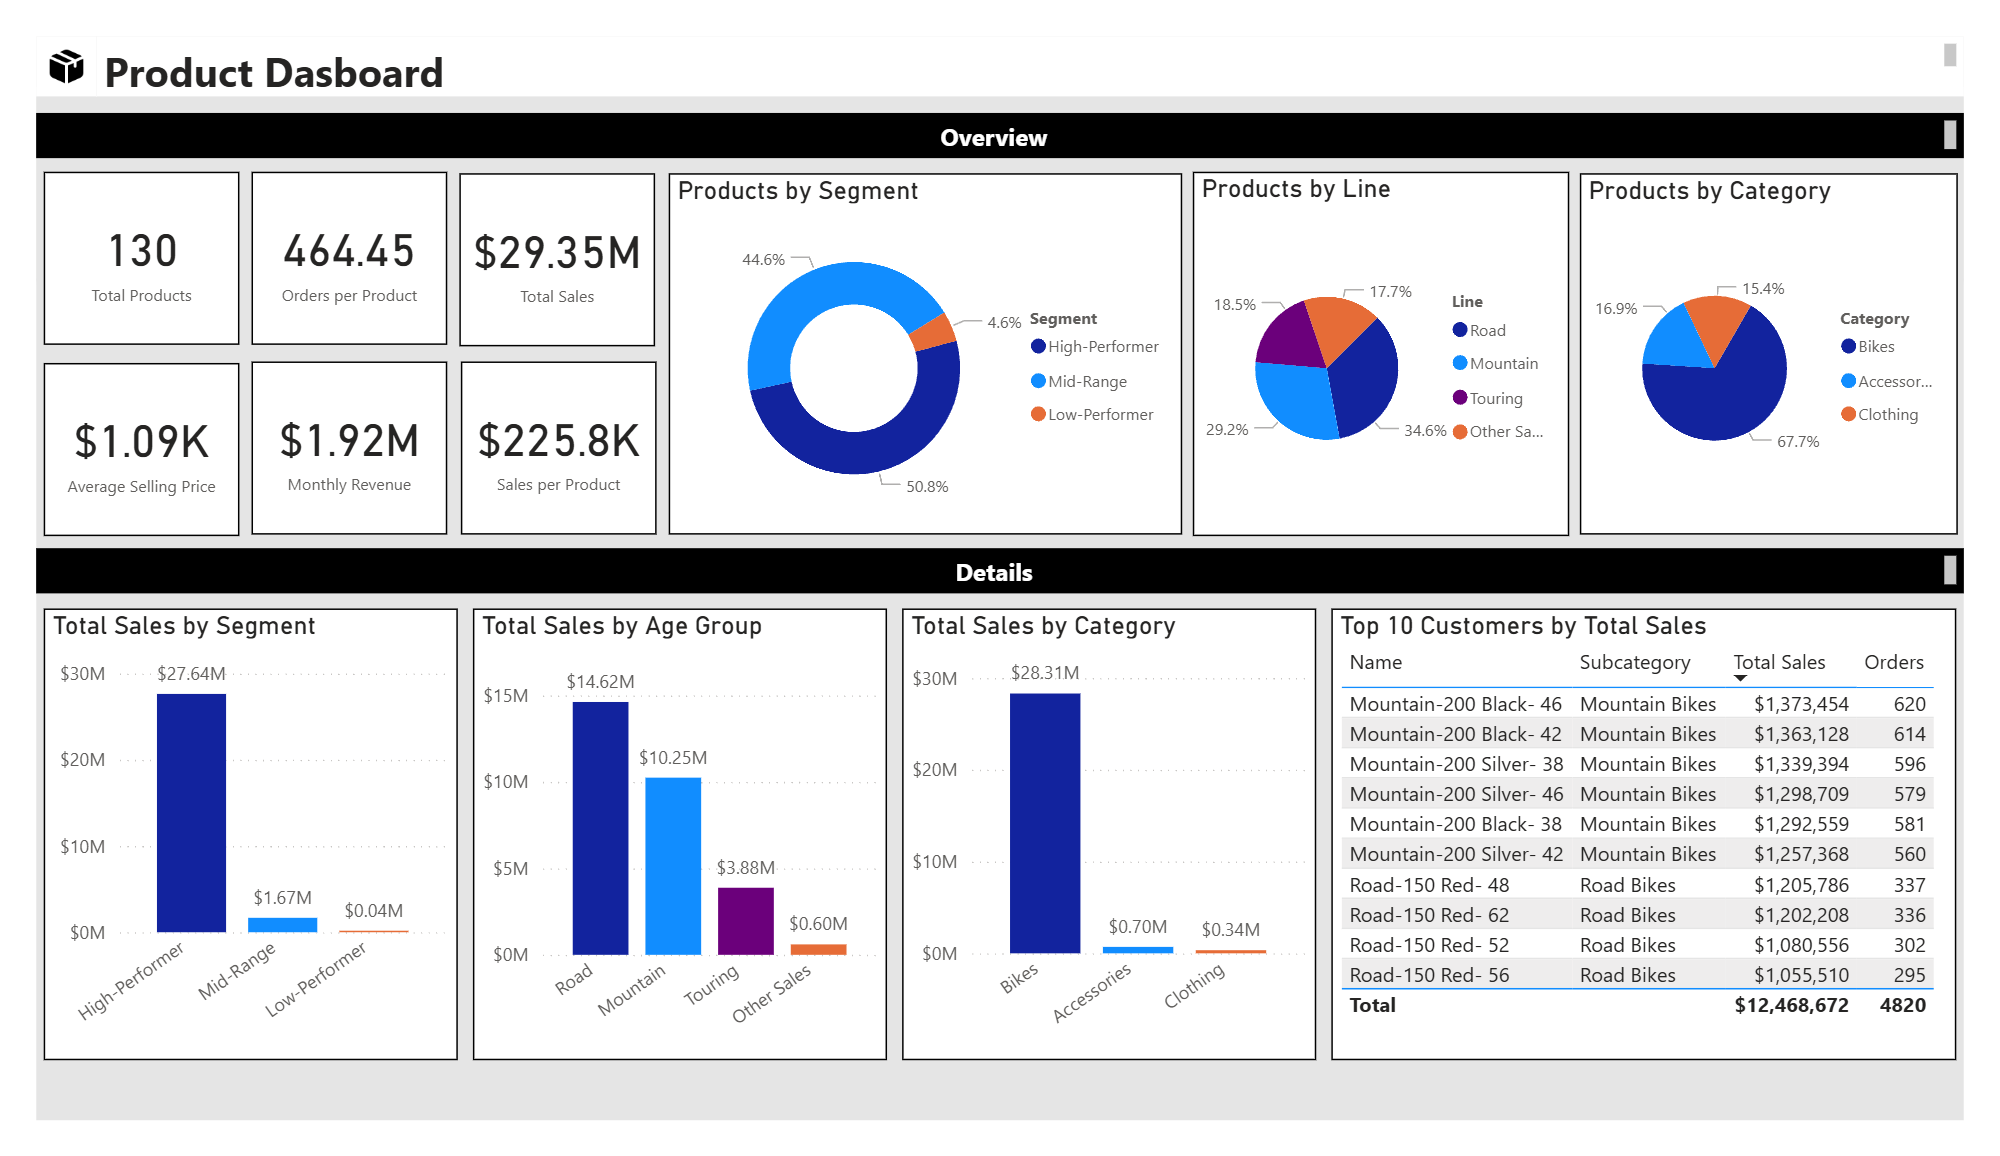

What the dashboard file says about the page in this screenshot:
{"tool":"powerbi","page":{"name":"Product Dashboard","canvas":[1280,720],"ordinal":1},"visuals":[{"type":"textbox","box":[40.2,0,1239.8,40.2],"z":0},{"type":"columnChart","title":"Total Sales by Category","fields":{"Category":["gold report_products.category"],"Y":["Sum(gold report_products.total_sales)"]},"box":[575,379.8,275.5,300.1],"z":1000},{"type":"columnChart","title":"Total Sales by Segment","fields":{"Category":["gold report_products.product_segment"],"Y":["Sum(gold report_products.total_sales)"]},"box":[5,380.3,275,300],"z":2000},{"type":"columnChart","title":"Total Sales by Age Group","fields":{"Category":["gold report_products.product_line"],"Y":["Sum(gold report_products.total_sales)"]},"box":[290,379.8,275.5,300.1],"z":3000},{"type":"tableEx","title":"Top 10 Customers by Total Sales","fields":{"Values":["gold report_products.product_name","gold report_products.subcategory","Sum(gold report_products.total_sales)","Sum(gold report_products.total_orders)"]},"box":[860,380.2,415,300.3],"z":4000},{"type":"card","fields":{"Values":["Sum(gold report_products.total_sales)"]},"box":[280.8,90.5,130,115.1],"z":5000},{"type":"textbox","box":[0,50.8,1280,30],"z":6000},{"type":"card","fields":{"Values":["Avg(gold report_products.avg_selling_price)"]},"box":[4.6,217.1,130.3,115],"z":7000},{"type":"pieChart","title":"Products by Category","fields":{"Y":["Count(gold report_products.product_key)"],"Category":["gold report_products.category"]},"box":[1025,91,250.7,240],"z":8000},{"type":"textbox","box":[0,340,1280,30],"z":9000},{"type":"pieChart","title":"Products by Line","fields":{"Y":["Count(gold report_products.product_key)"],"Category":["gold report_products.product_line"]},"box":[768,90,249.7,241.6],"z":10000},{"type":"donutChart","title":"Products by Segment","fields":{"Y":["Count(gold report_products.product_key)"],"Category":["gold report_products.product_segment"]},"box":[420,91,340.7,240],"z":11000},{"type":"card","fields":{"Values":["Count(gold report_products.product_key)"]},"box":[5,90,130,115.1],"z":12000},{"type":"card","fields":{"Values":["Sum(gold report_products.avg_monthly_revenue)"]},"box":[142.9,216,130.3,115.4],"z":13000},{"type":"card","fields":{"Values":["Avg(gold report_products.total_orders)"]},"box":[143,89.5,129.9,115.1],"z":14000},{"type":"card","fields":{"Values":["Avg(gold report_products.total_sales)"]},"box":[282.3,216,130,115],"z":15000},{"type":"image","box":[0,0,39.9,39.9],"z":15001}]}

Visuals, with their boxes in screenshot pixels (x1, y1, x2, y2), scaled from the page's 1280x720 canvas onto the 2000x1156 screenshot:
textbox: <box>63,0,1999,65</box>
"Total Sales by Category" columnChart: <box>898,610,1329,1092</box>
"Total Sales by Segment" columnChart: <box>8,611,438,1092</box>
"Total Sales by Age Group" columnChart: <box>453,610,884,1092</box>
"Top 10 Customers by Total Sales" tableEx: <box>1344,610,1992,1093</box>
card - Sum(gold report_products.total_sales): <box>439,145,642,330</box>
textbox: <box>0,82,1999,130</box>
card - Avg(gold report_products.avg_selling_price): <box>7,349,211,533</box>
"Products by Category" pieChart: <box>1602,146,1993,531</box>
textbox: <box>0,546,1999,594</box>
"Products by Line" pieChart: <box>1200,144,1590,532</box>
"Products by Segment" donutChart: <box>656,146,1189,531</box>
card - Count(gold report_products.product_key): <box>8,144,211,329</box>
card - Sum(gold report_products.avg_monthly_revenue): <box>223,347,427,532</box>
card - Avg(gold report_products.total_orders): <box>223,144,426,328</box>
card - Avg(gold report_products.total_sales): <box>441,347,644,531</box>
image: <box>0,0,62,64</box>
